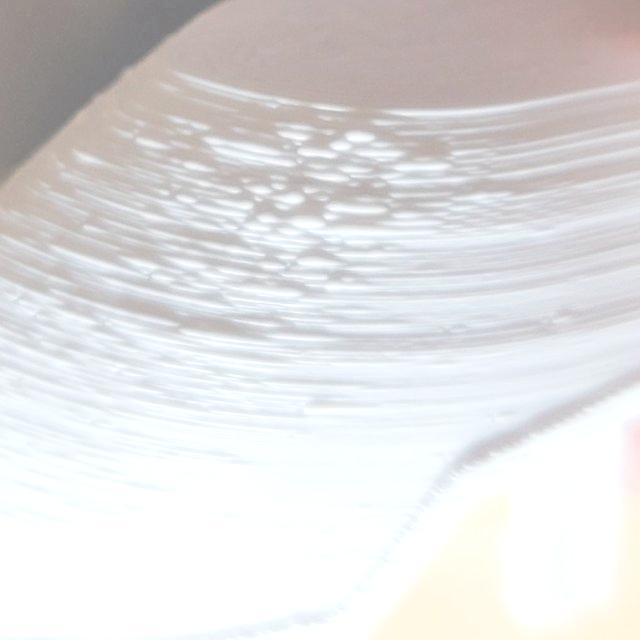zits: (286, 208, 322, 234), (323, 136, 358, 162), (275, 186, 307, 212), (342, 126, 378, 148), (297, 141, 326, 167), (252, 208, 286, 230), (294, 247, 324, 271), (256, 252, 286, 276), (243, 176, 270, 202), (239, 217, 269, 234), (172, 190, 195, 210)
